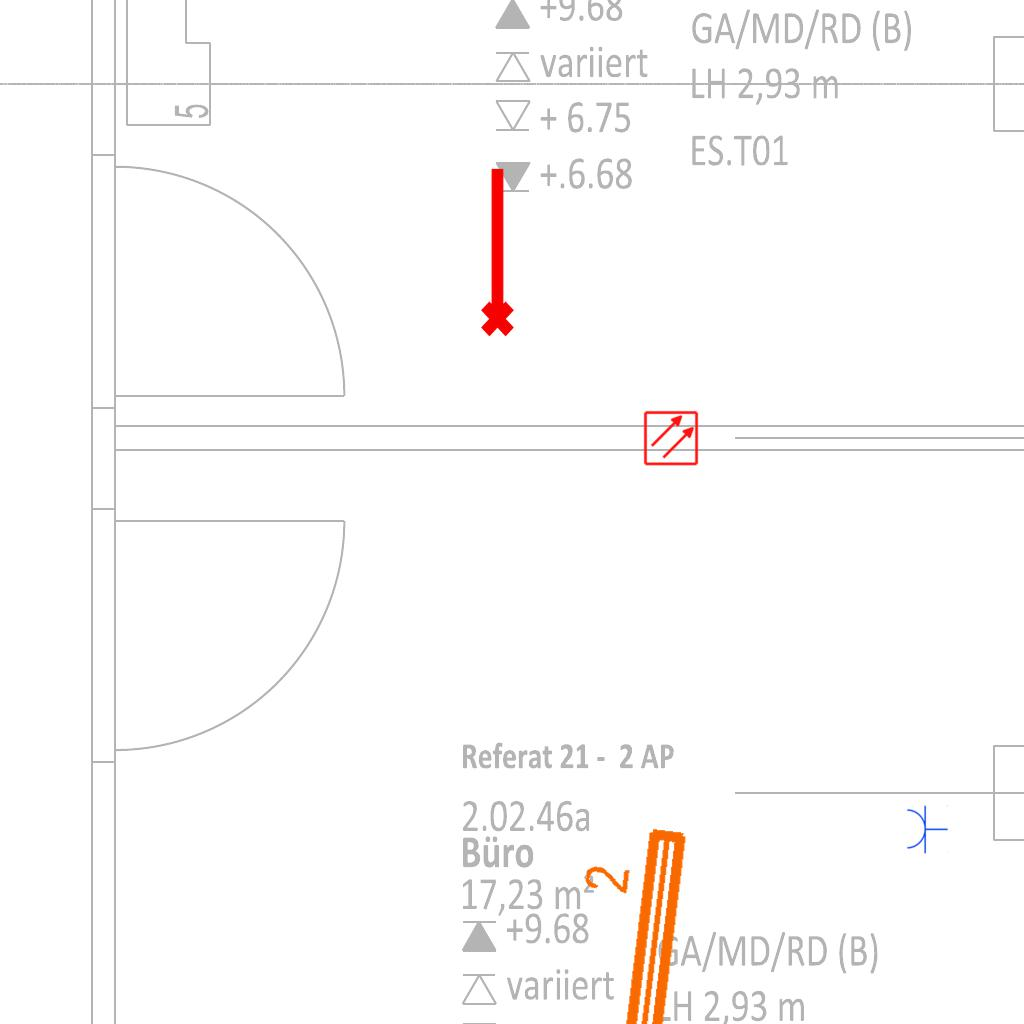ASR_Ansaugoeffnung: (472, 163, 518, 339)
Ambulanz_Pendelleuchte_LED: (494, 812, 700, 1024)
RMO_Rauchmelder_optischer: (643, 410, 699, 466)
Schukosteckdose_einfach: (905, 804, 948, 854)
